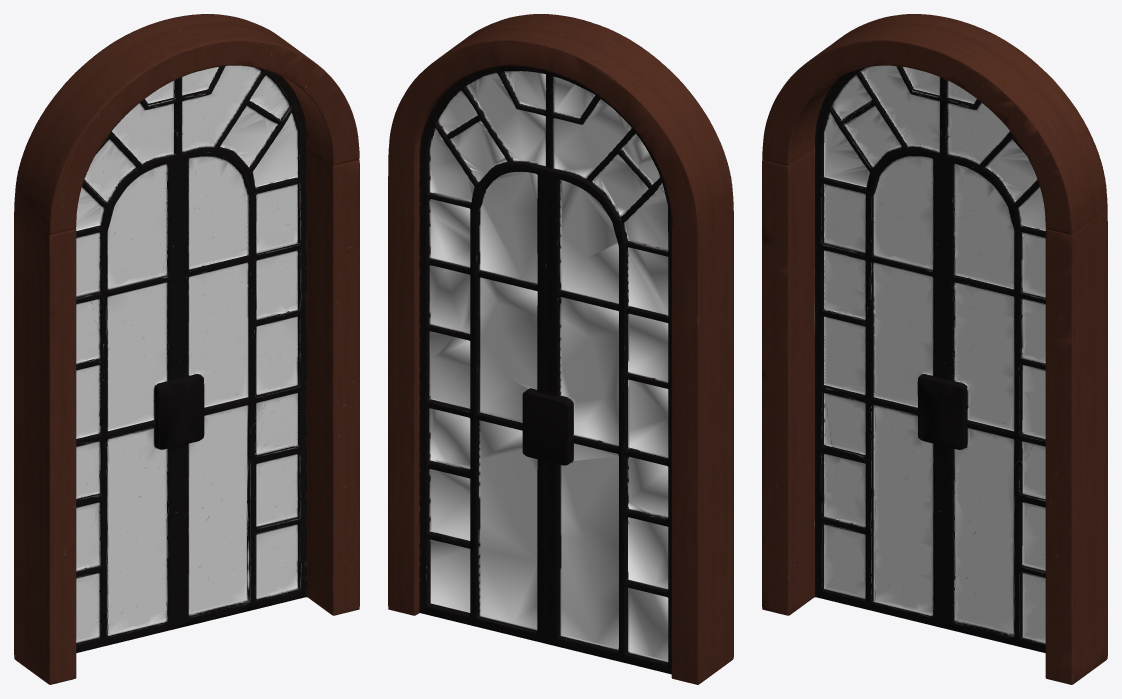
File: arched-timber-door.glb
3 renders of one model, left to right at view 1: azimuth 30°, elevation 25°; view 2: azimuth 150°, elevation 25°; view 3: azimuth 330°, elevation 25°, orthographic.
Parts seen in each view (by area): view 1: world; view 2: world; view 3: world.
Part boxes in pixels (left/top/right/bottom): world: left=14, top=14, right=359, bottom=684; world: left=388, top=14, right=733, bottom=684; world: left=762, top=14, right=1107, bottom=684.
Size of the model in its own units: 0.5419 by 1 by 0.109.
Materials: 1 (1 with a texture image).
